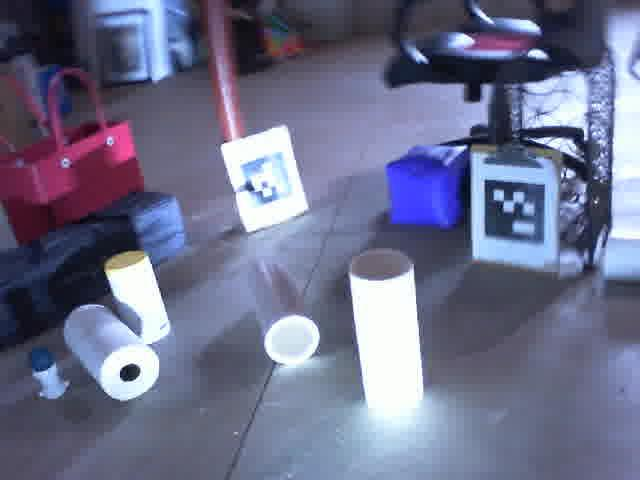coral: (348, 250, 424, 414), (246, 260, 321, 363), (105, 251, 172, 346)
